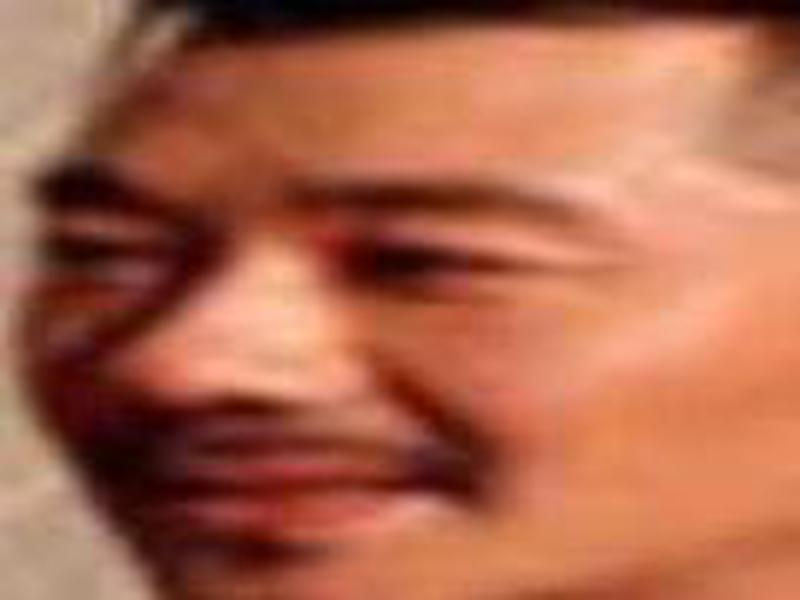without_mask: (14, 18, 800, 600)
